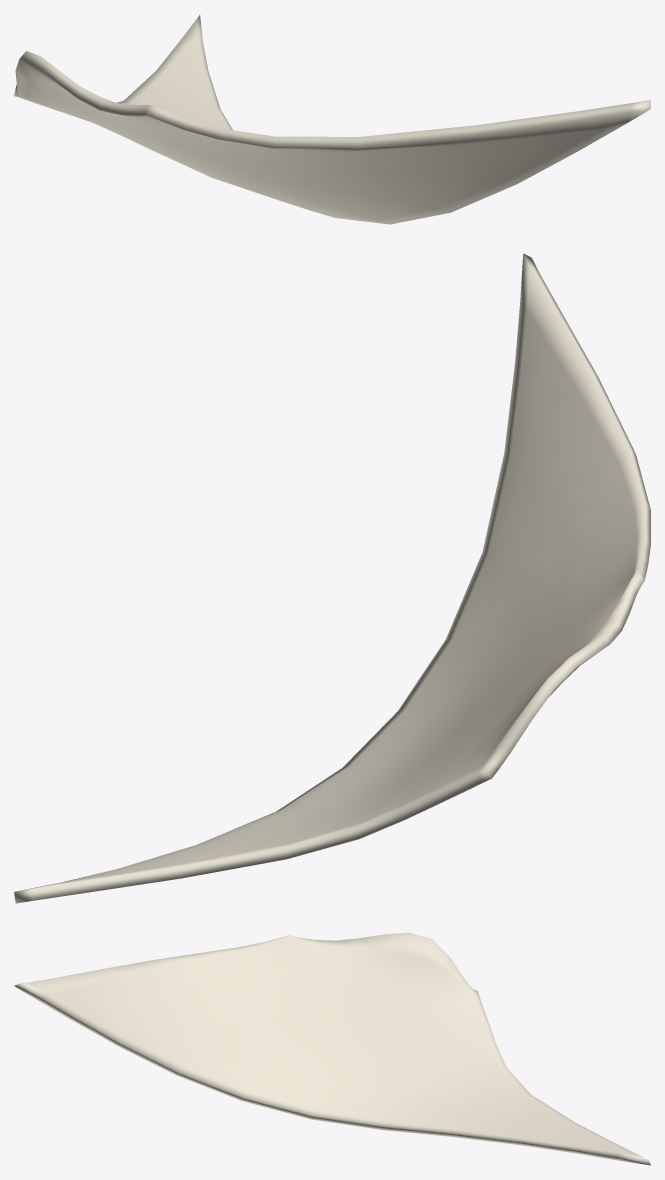
The picture shows the model from 3 angles, top to bottom: view 1: azimuth 30°, elevation 25°; view 2: azimuth 150°, elevation 25°; view 3: azimuth 270°, elevation 25°; orthographic projection. The views are drawn at different scales.
Visible parts, largest first — view 1: ZA_29fca6c3f3de9ba5; view 2: ZA_29fca6c3f3de9ba5; view 3: ZA_29fca6c3f3de9ba5.
Boxes of the visible parts, <box> form: ZA_29fca6c3f3de9ba5: <box>14,15,650,224</box>; ZA_29fca6c3f3de9ba5: <box>14,253,650,903</box>; ZA_29fca6c3f3de9ba5: <box>14,932,650,1165</box>.
Bounding box in the file's own units: 0.018 × 0.0136 × 0.0424.
